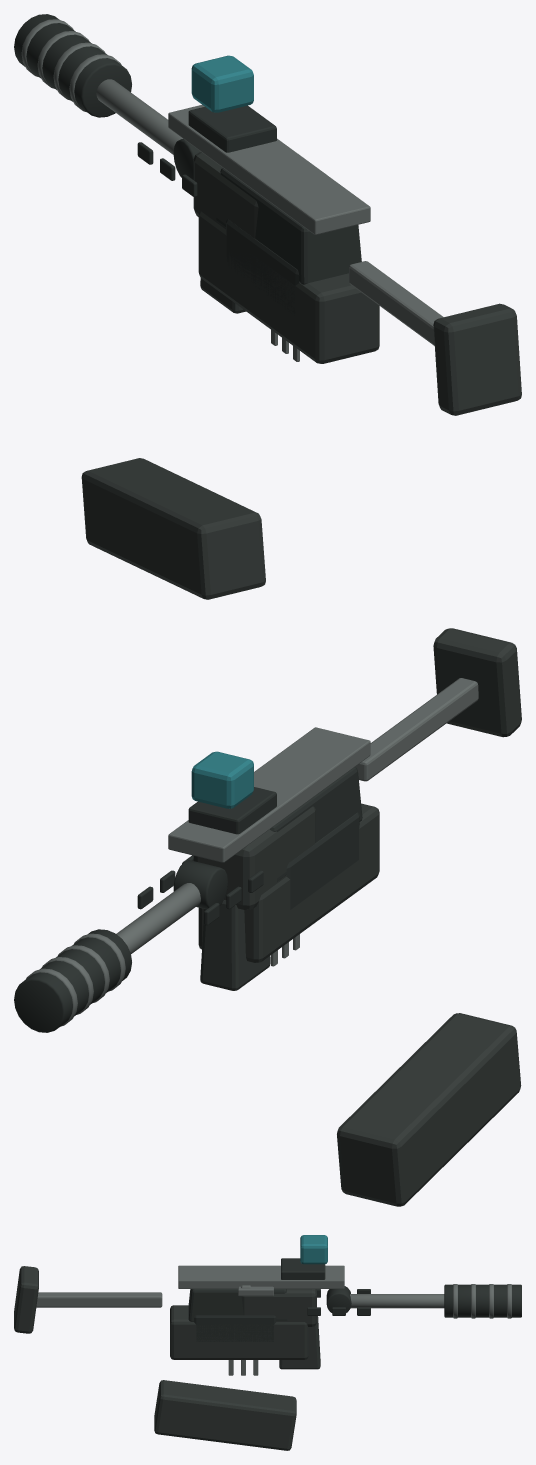
3 renders of one model, top to bottom at view 1: azimuth 30°, elevation 25°; view 2: azimuth 150°, elevation 25°; view 3: azimuth 270°, elevation 25°, orthographic. The views are drawn at different scales.
Parts seen in each view (by area): view 1: SpareMagazineBody, MagazineBody, TopRail, StockButt, UpperReceiver, SuppressorBody, LowerReceiver, Handguard, StockTube, OpticGlass, OpticRiser, Barrel (+1 smaller); view 2: SpareMagazineBody, TopRail, MagazineBody, StockButt, SuppressorBody, Handguard, StockTube, ForegripBody, LowerReceiver, OpticGlass, UpperReceiver, Barrel (+2 smaller); view 3: SpareMagazineBody, MagazineBody, TopRail, LowerReceiver, StockTube, SuppressorBody, Handguard, UpperReceiver, StockButt, Barrel, ForegripBody, OpticRiser (+3 smaller).
Part boxes in pixels (box(x1,y1,x2,y2)): SpareMagazineBody: box(81, 458, 265, 599); MagazineBody: box(198, 211, 379, 363); TopRail: box(168, 105, 370, 234); StockButt: box(433, 303, 521, 415); UpperReceiver: box(216, 168, 361, 284); SuppressorBody: box(14, 14, 131, 117); LowerReceiver: box(226, 219, 299, 315); Handguard: box(193, 152, 258, 238); StockTube: box(349, 261, 443, 345); OpticGlass: box(191, 55, 253, 112); OpticRiser: box(188, 105, 276, 152); Barrel: box(96, 79, 182, 154); SpareMagazineBody: box(337, 1013, 521, 1206); TopRail: box(168, 727, 370, 862); MagazineBody: box(198, 803, 379, 962); StockButt: box(433, 628, 521, 737); SuppressorBody: box(14, 929, 131, 1032); Handguard: box(193, 806, 315, 909); StockTube: box(355, 678, 478, 781); ForegripBody: box(200, 900, 270, 990); LowerReceiver: box(286, 812, 359, 909); OpticGlass: box(191, 751, 253, 808); UpperReceiver: box(270, 767, 362, 881); Barrel: box(116, 883, 200, 953); SpareMagazineBody: box(154, 1380, 296, 1450); MagazineBody: box(170, 1305, 308, 1359); TopRail: box(178, 1265, 344, 1288); LowerReceiver: box(194, 1315, 276, 1341); StockTube: box(36, 1292, 162, 1307); SuppressorBody: box(444, 1284, 521, 1317); Handguard: box(241, 1289, 316, 1326); UpperReceiver: box(188, 1289, 287, 1321); StockButt: box(14, 1266, 38, 1333); Barrel: box(350, 1294, 444, 1308); ForegripBody: box(279, 1316, 320, 1369); OpticRiser: box(281, 1258, 325, 1279).
Bounding box in the file's own units: 0.467 × 0.9521 × 1.83.
